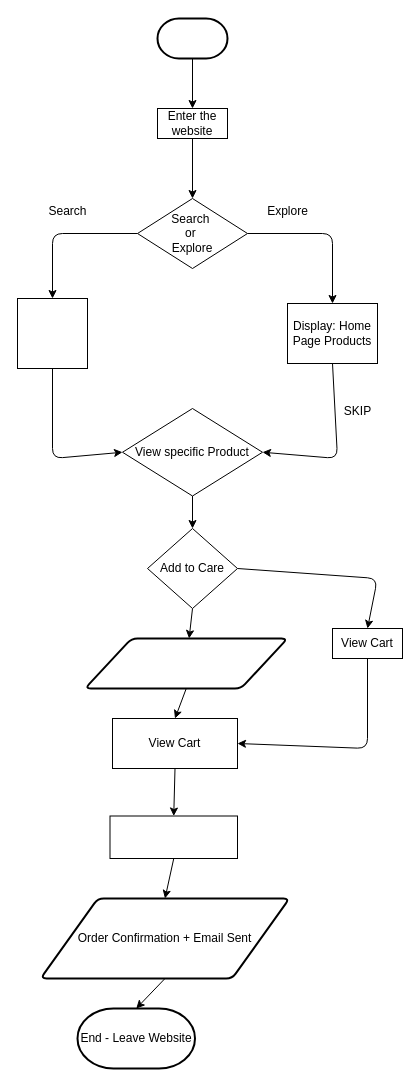
This 420x1086 diagram has some shape labels left out. The centre of each missing label's shape, as x and y in pixels:
Input: Search keywords: the point at 52,333
Message: "Added to Cart": the point at 186,663
Start: the point at 192,38
View Payment: the point at 173,836
